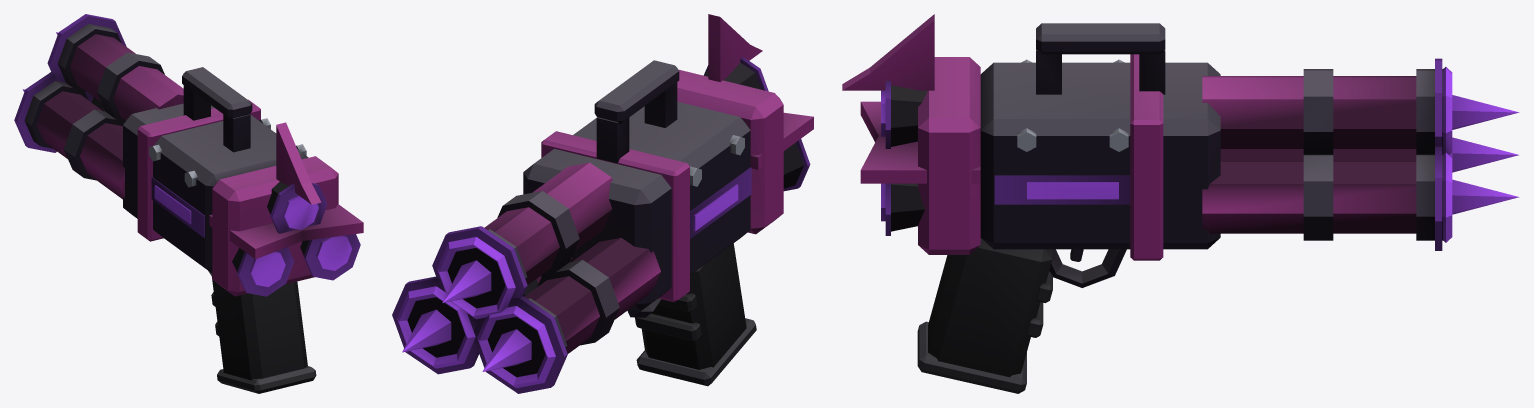
Rendered from Hornet.fbx.
3 renders of one model, left to right at view 1: azimuth 30°, elevation 25°; view 2: azimuth 150°, elevation 25°; view 3: azimuth 270°, elevation 25°, orthographic. The views are drawn at different scales.
Parts seen in each view (by area): view 1: Body, Halo_Glow, Accent_Glow; view 2: Body, Accent_Glow, Halo_Glow; view 3: Body, Accent_Glow, Halo_Glow.
Part boxes in pixels (x1,y1,x2,y2): Body: (24,24,363,393); Halo_Glow: (14,14,360,296); Accent_Glow: (23,32,351,286); Body: (407,14,813,386); Accent_Glow: (397,184,738,387); Halo_Glow: (392,57,810,393); Body: (842,14,1442,393); Accent_Glow: (881,67,1519,242); Halo_Glow: (885,58,1442,250).
Bounding box in the file's own units: 1.16 × 2.15 × 3.67.
